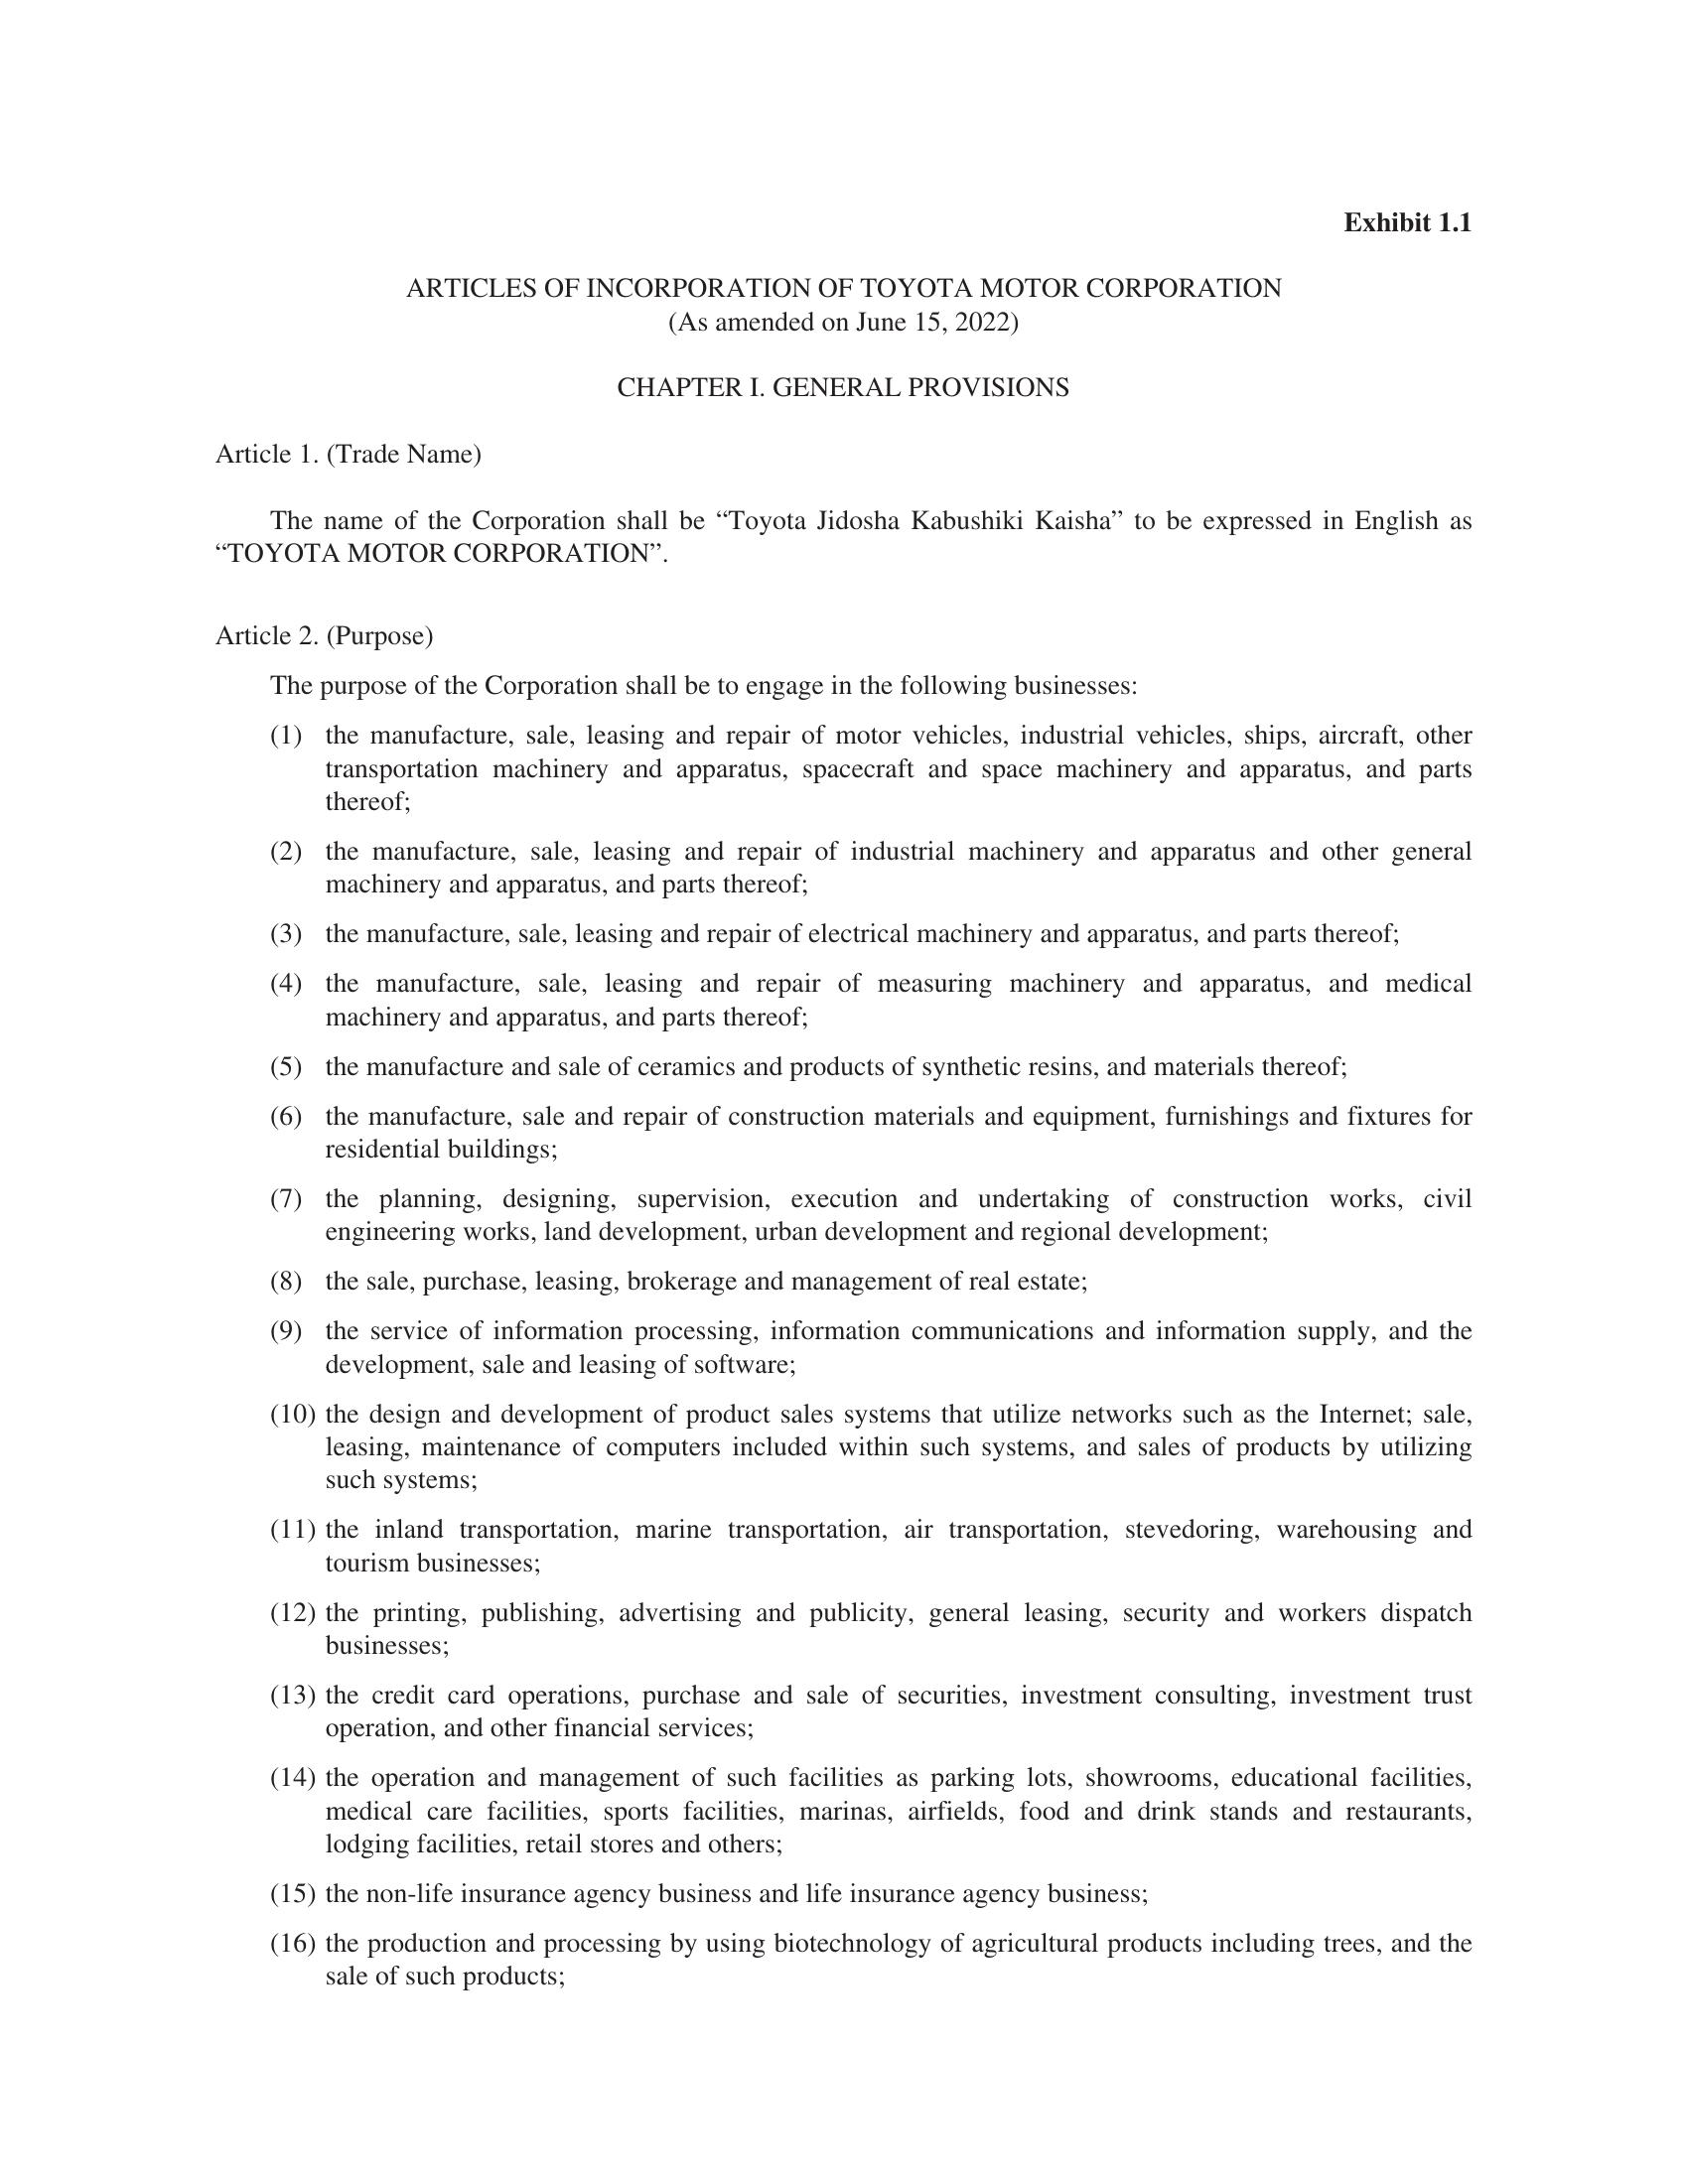Footer: (0, 2014, 1688, 2184)
Header: (0, 0, 1688, 191)
